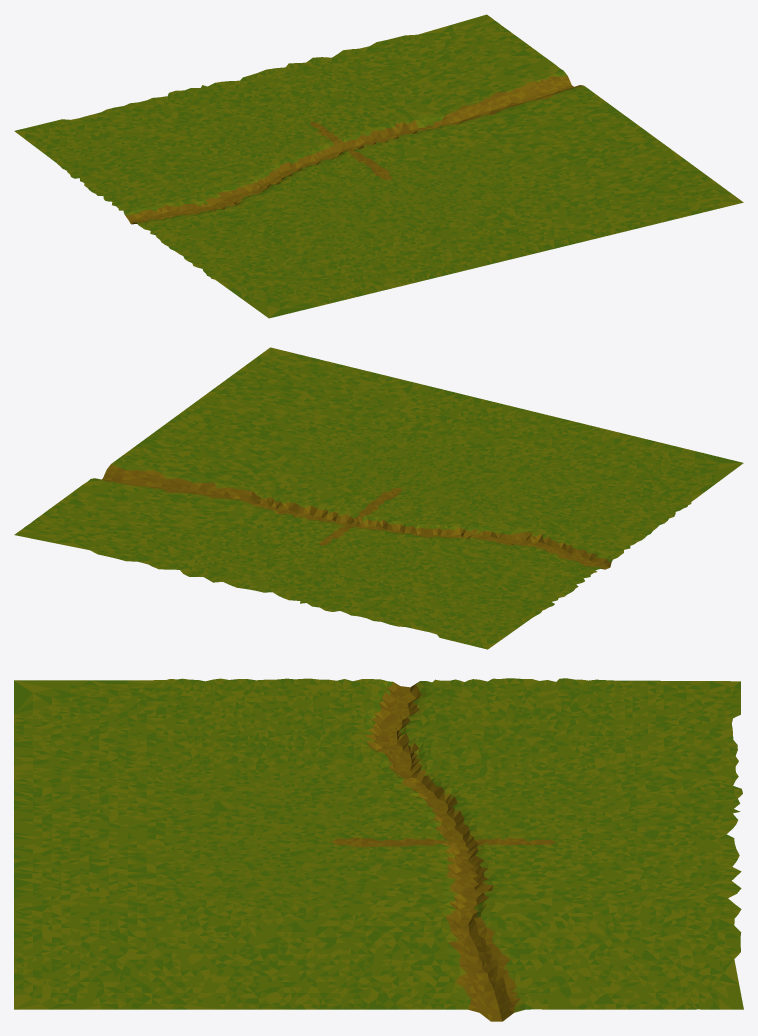
Rendered from tutorial-camp.fbx.
3 views of the same model, one above another, from view 1: azimuth 30°, elevation 25°; view 2: azimuth 150°, elevation 25°; view 3: azimuth 270°, elevation 25° (orthographic). The views are drawn at different scales.
Parts seen in each view (by area): view 1: ground; view 2: ground; view 3: ground.
Boxes of the visible parts, bbox=[...] form: ground: bbox=[14, 14, 743, 318]; ground: bbox=[14, 347, 743, 649]; ground: bbox=[14, 678, 743, 1021].
Bounding box in the file's own units: 95220 × 1794 × 102323.
